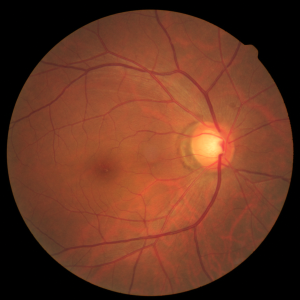glaucoma: (75, 96, 268, 219)
